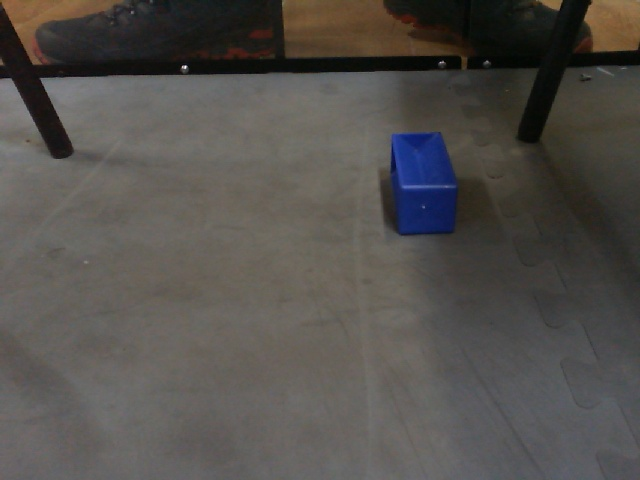BlueSample: (387, 130, 462, 241)
